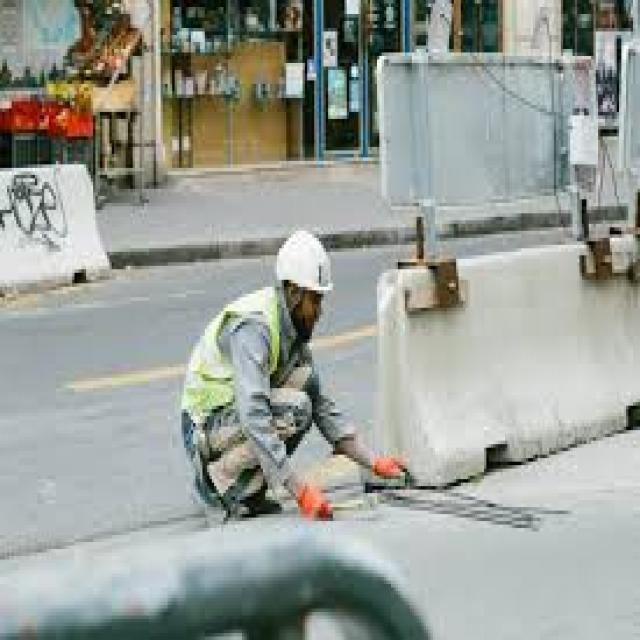reflective_jacket: (167, 279, 295, 433)
safety_helmet: (267, 216, 344, 311)
